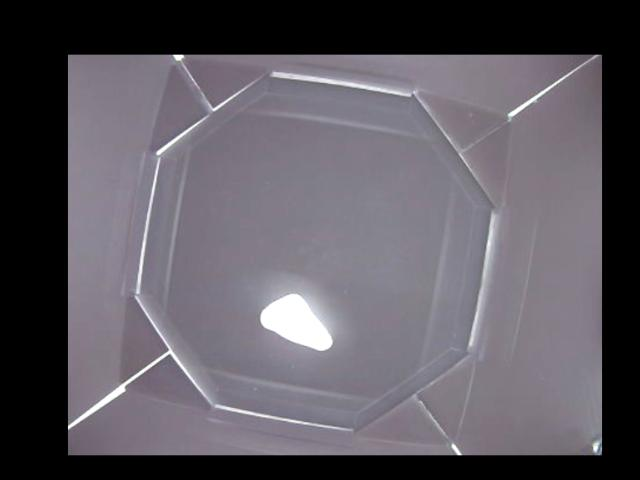Pebble: (259, 293, 333, 351)
